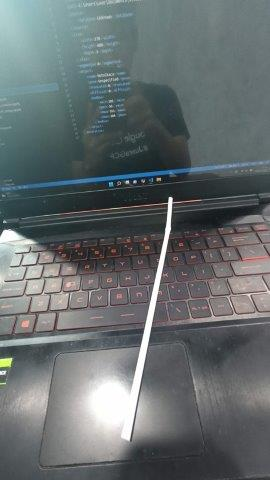sedotan: (122, 197, 173, 441)
